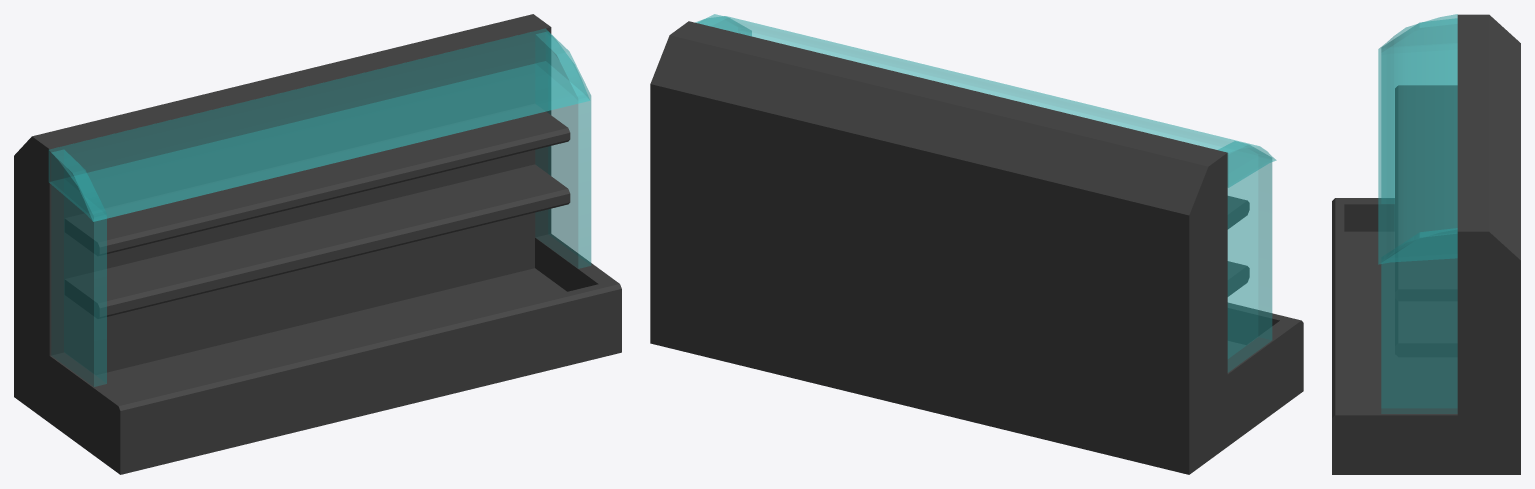
Rendered from drinks fridge.fbx.
3 views of the same model, side by side, from view 1: azimuth 30°, elevation 25°; view 2: azimuth 150°, elevation 25°; view 3: azimuth 270°, elevation 25° (orthographic). The views are drawn at different scales.
Visible parts, largest first — view 1: Drinks_holder, pCube4, Glass2, Glass3; view 2: Drinks_holder, Glass2, pCube4; view 3: Drinks_holder, pCube4, Glass3, Glass2.
Boxes of the visible parts, bbox=[...] form: Drinks_holder: bbox=[14, 14, 621, 474]; pCube4: bbox=[48, 28, 589, 221]; Glass2: bbox=[51, 150, 106, 386]; Glass3: bbox=[535, 32, 591, 268]; Drinks_holder: bbox=[650, 21, 1303, 474]; Glass2: bbox=[1218, 141, 1272, 372]; pCube4: bbox=[695, 16, 1276, 187]; Drinks_holder: bbox=[1332, 14, 1520, 474]; pCube4: bbox=[1378, 14, 1457, 264]; Glass3: bbox=[1381, 228, 1457, 413]; Glass2: bbox=[1381, 18, 1457, 198].
Size of the model in its own units: 17.1 by 8.9 by 6.27.
